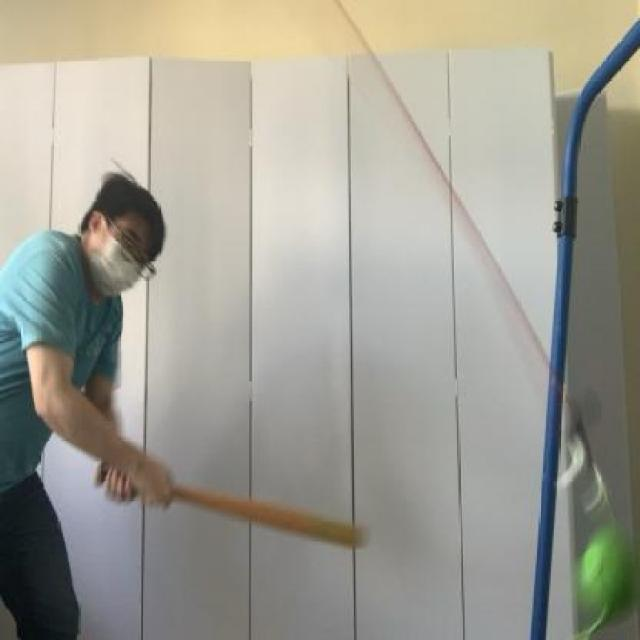baseball: (567, 516, 640, 636)
